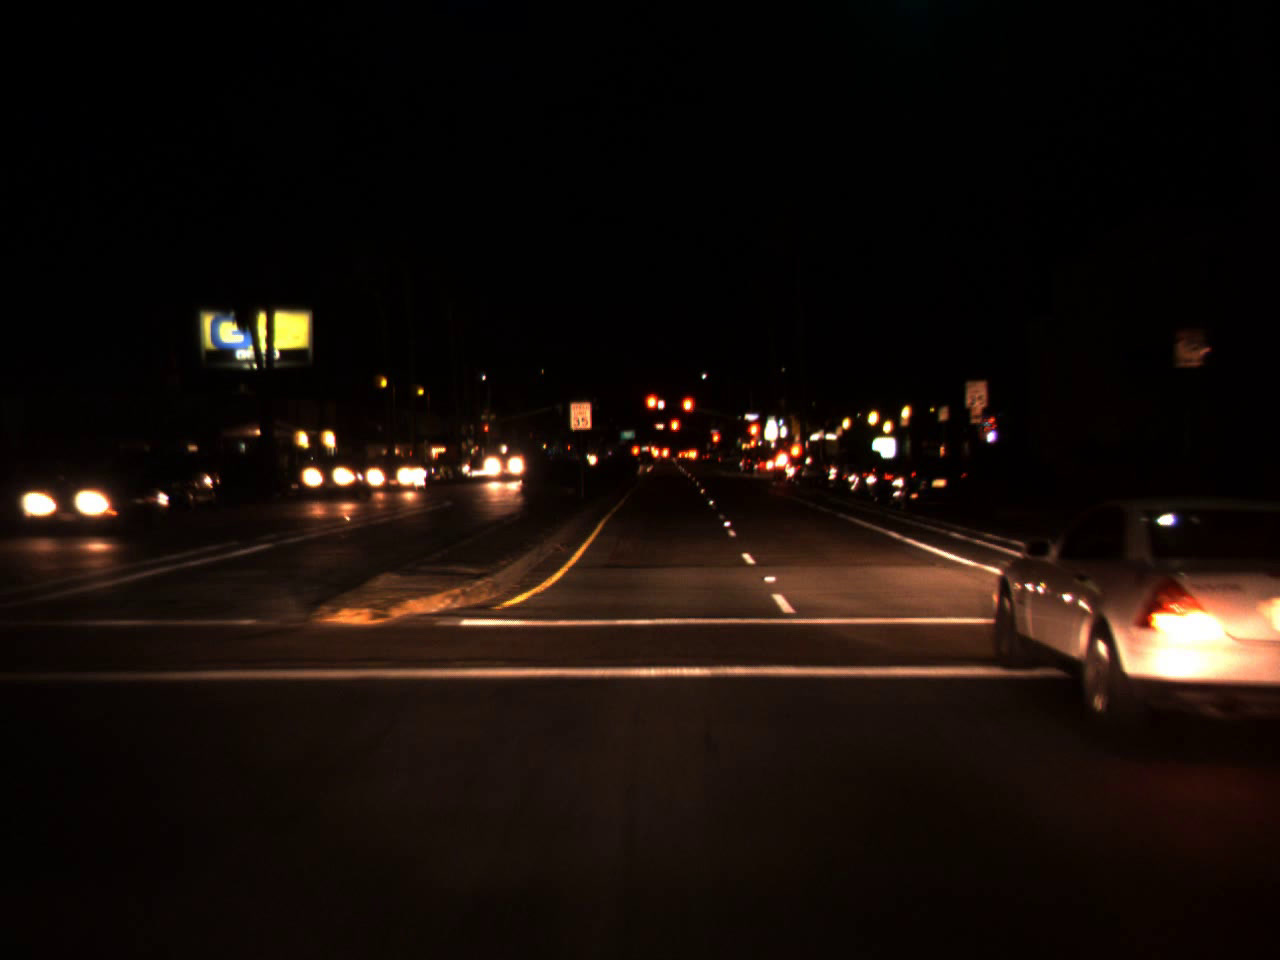stop: (642, 391, 661, 426), (680, 394, 695, 429), (669, 417, 681, 444), (711, 429, 718, 456), (749, 424, 758, 445), (483, 424, 489, 440)
